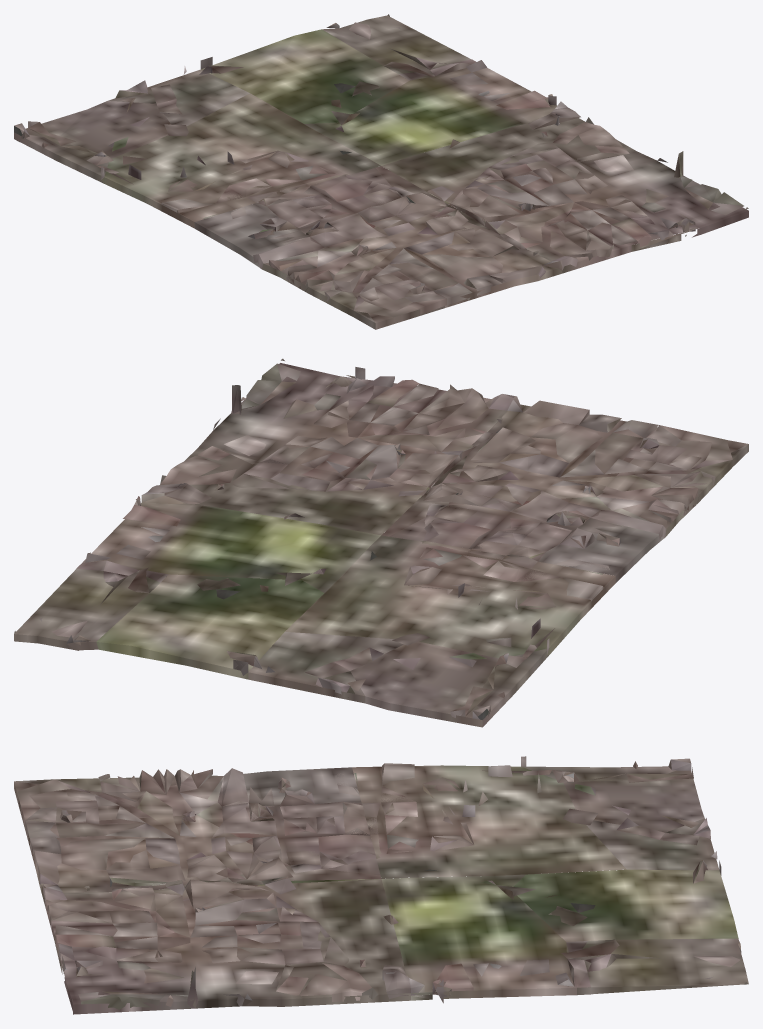
3 renders of one model, top to bottom at view 1: azimuth 30°, elevation 25°; view 2: azimuth 150°, elevation 25°; view 3: azimuth 270°, elevation 25°, orthographic. The views are drawn at different scales.
Visible parts, largest first — view 1: Mesh_0; view 2: Mesh_0; view 3: Mesh_0.
Part boxes in pixels (bbox=[...]): Mesh_0: bbox=[14, 14, 748, 329]; Mesh_0: bbox=[14, 358, 748, 727]; Mesh_0: bbox=[14, 756, 748, 1014].
Bounding box in the file's own units: 2131 × 208 × 2636.
1 material, 1 textured.
